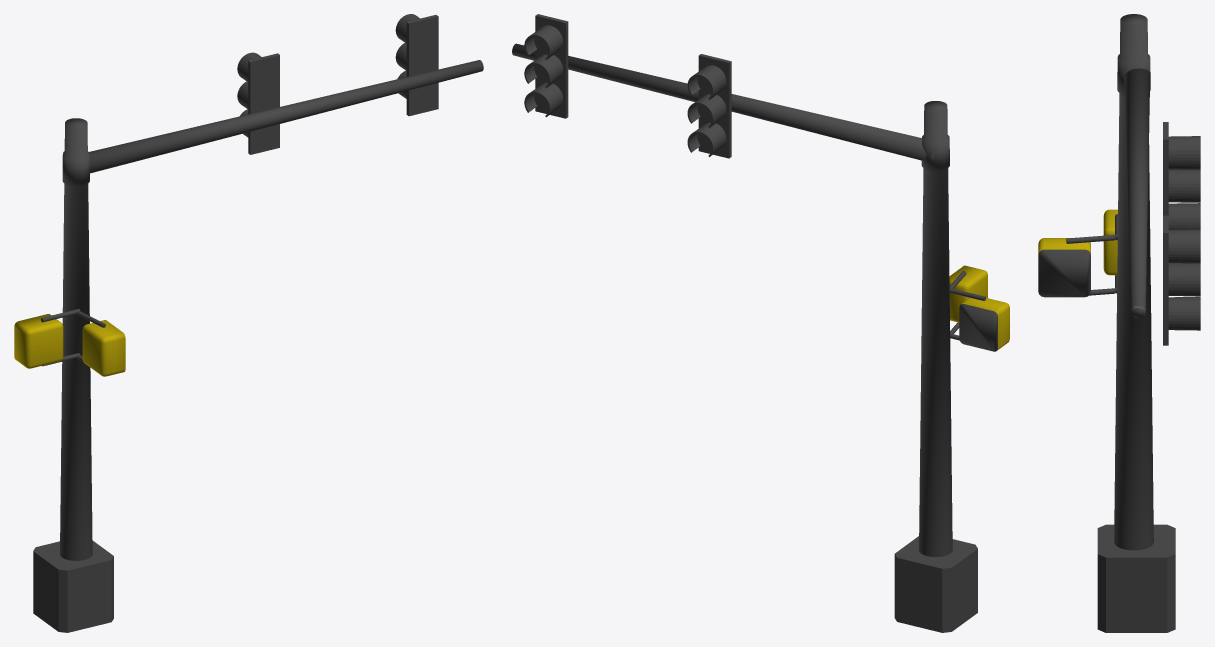
The model's file is TrafficLightPost_1_Mesh.fbx.
The picture shows the model from 3 angles, left to right: view 1: azimuth 30°, elevation 25°; view 2: azimuth 150°, elevation 25°; view 3: azimuth 270°, elevation 25°; orthographic projection. The views are drawn at different scales.
Visible parts, largest first — view 1: Cube; view 2: Cube; view 3: Cube.
Part boxes in pixels (x1,y1,x2,y2): Cube: [14, 14, 483, 632]; Cube: [512, 14, 1009, 632]; Cube: [1038, 14, 1200, 632].
Bounding box in the file's own units: 829 × 847 × 206.
Materials: 1 (1 with a texture image).
